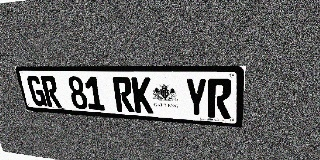1: (83, 76, 105, 110)
8: (67, 76, 89, 109)
G: (26, 76, 47, 107)
K: (131, 77, 153, 114)
R: (208, 78, 232, 119), (112, 77, 134, 112), (40, 76, 62, 108)
Y: (185, 78, 207, 117)
